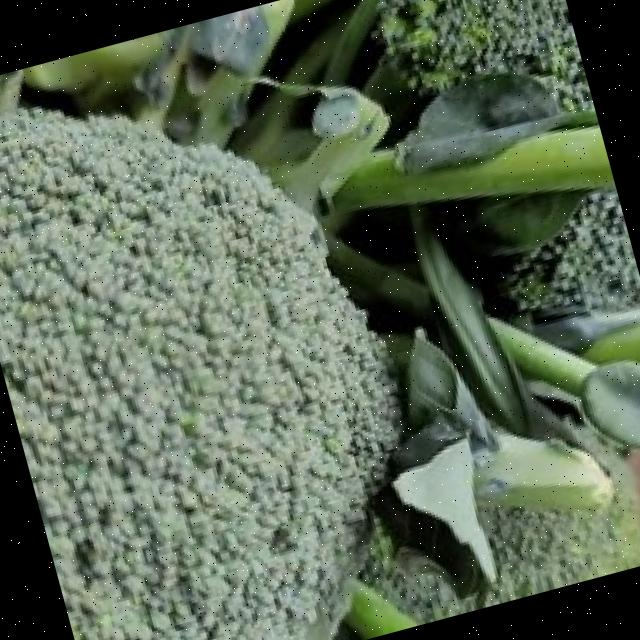Broccoli: (0, 110, 396, 640), (0, 110, 395, 640)
